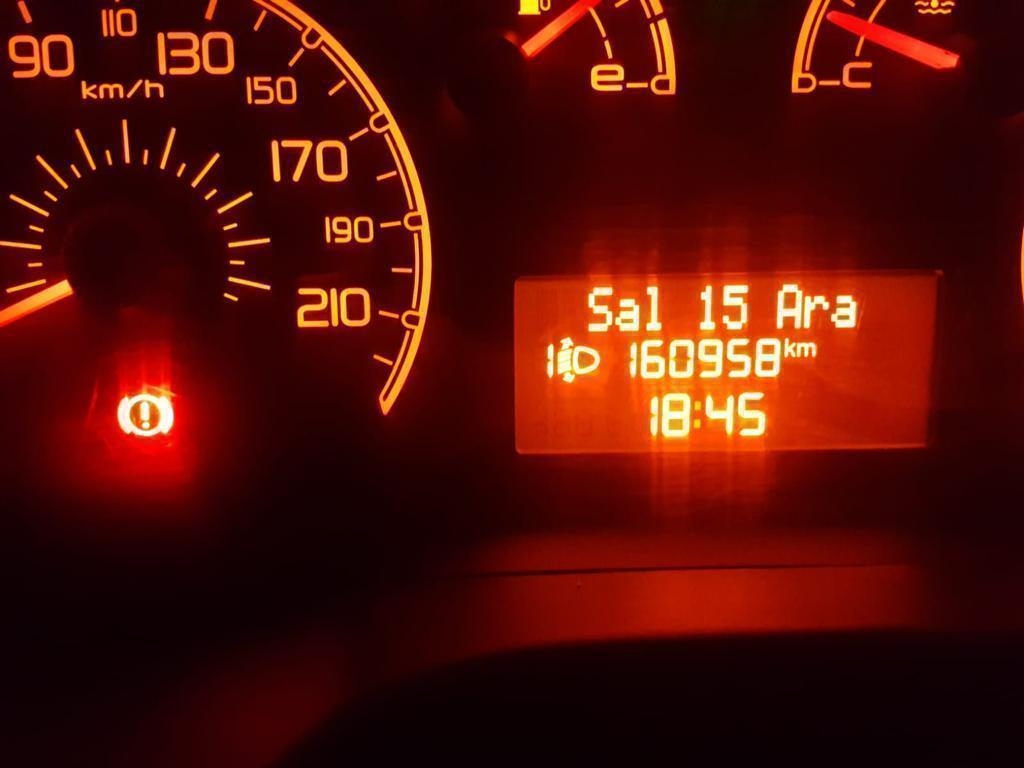0: (668, 338, 693, 378)
1: (701, 281, 717, 330), (648, 393, 659, 439), (544, 338, 554, 380), (628, 337, 637, 381)
4: (705, 394, 732, 436)
5: (721, 282, 748, 330), (738, 391, 766, 437), (728, 336, 751, 378)
6: (641, 338, 664, 378)
8: (661, 390, 689, 438), (756, 336, 778, 378)
9: (698, 337, 722, 378)
X: (774, 282, 802, 329), (587, 286, 613, 331), (643, 281, 666, 329), (831, 291, 859, 330), (804, 293, 827, 327), (616, 299, 639, 331), (796, 340, 817, 358), (783, 335, 795, 358), (693, 395, 700, 432)
odometer: (507, 268, 940, 456)
